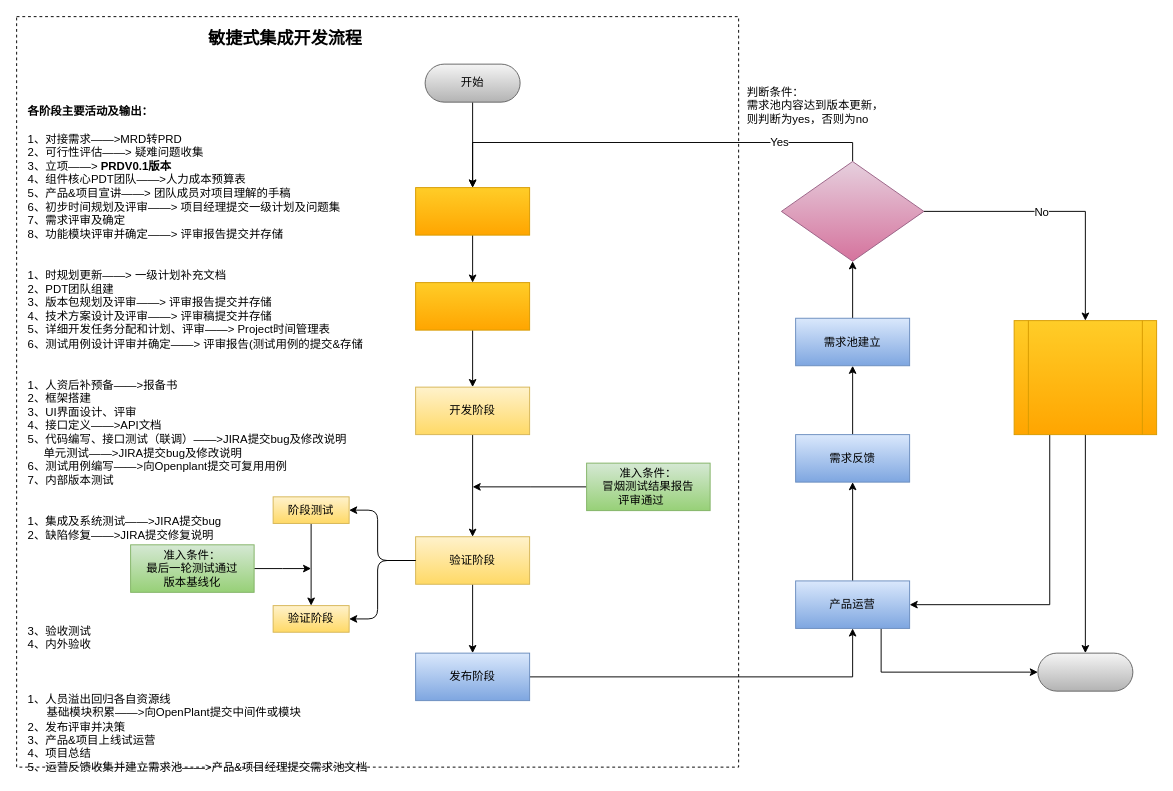
This 1173x791 diagram has some shape labels left out. The shapes that lost their labels are listed below. From the top down, each one's centre as x and y in pixels, then its label:
the point at 472,211: 概念阶段
the point at 852,211: 是否需要进入完成的 开发流程
the point at 472,306: 计划阶段
the point at 1085,377: 需求管理流程
the point at 1085,671: 结束
